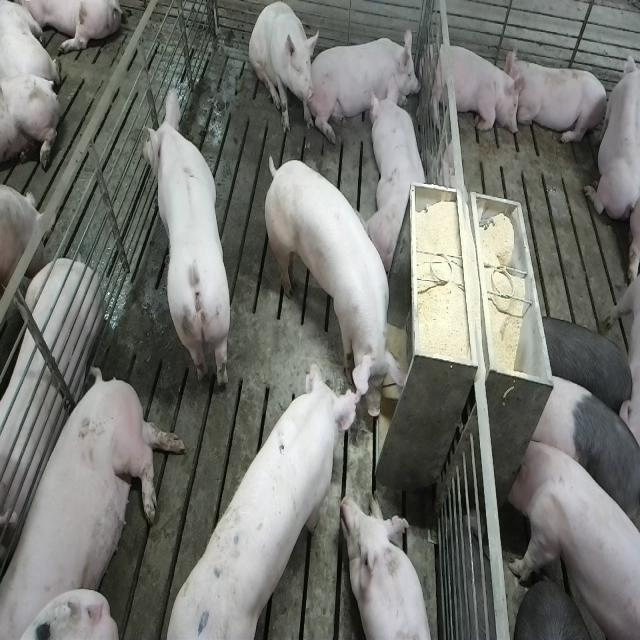Lateral_lying: (4, 362, 188, 636), (0, 257, 103, 569)
Sitting: (249, 2, 318, 136)
Standing: (164, 358, 366, 635), (263, 158, 404, 424), (140, 80, 233, 393), (505, 435, 637, 640), (529, 372, 638, 534), (538, 311, 631, 412)
Sternal_lying: (345, 492, 437, 640), (312, 26, 422, 140), (368, 86, 431, 274), (424, 38, 523, 139), (509, 52, 610, 150), (583, 42, 637, 224)
